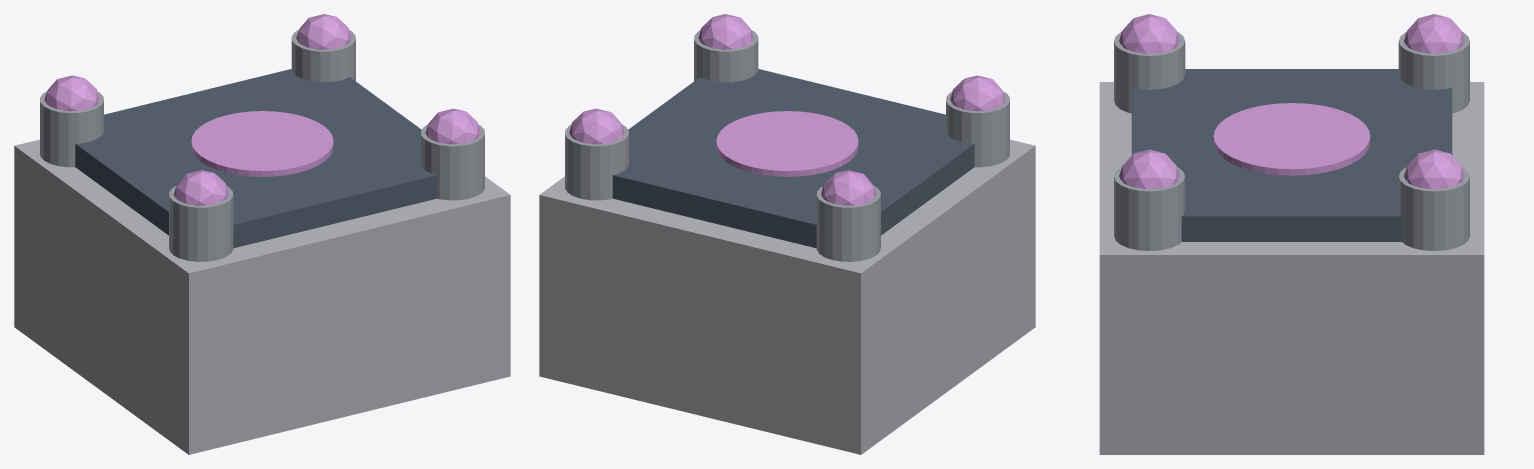
Rendered from propulsor-recarga.glb.
3 renders of one model, left to right at view 1: azimuth 30°, elevation 25°; view 2: azimuth 150°, elevation 25°; view 3: azimuth 270°, elevation 25°, orthographic. The views are drawn at different scales.
Parts seen in each view (by area): view 1: part000, part001, part002, part005, part009, part003, part007, part006, part008, part010, part004; view 2: part000, part001, part002, part003, part007, part005, part009, part004, part010, part008, part006; view 3: part000, part001, part002, part007, part009, part003, part005, part004, part006, part008, part010.
Part boxes in pixels (x1=…): part000: x1=14, y1=139, x2=510, y2=454; part001: x1=75, y1=69, x2=437, y2=248; part002: x1=191, y1=111, x2=333, y2=176; part005: x1=169, y1=185, x2=233, y2=261; part009: x1=421, y1=124, x2=484, y2=200; part003: x1=40, y1=91, x2=103, y2=167; part007: x1=291, y1=30, x2=355, y2=82; part006: x1=173, y1=170, x2=228, y2=205; part008: x1=296, y1=14, x2=351, y2=49; part010: x1=425, y1=108, x2=480, y2=144; part004: x1=44, y1=75, x2=99, y2=111; part000: x1=539, y1=139, x2=1035, y2=454; part001: x1=612, y1=69, x2=974, y2=248; part002: x1=716, y1=111, x2=858, y2=176; part003: x1=816, y1=185, x2=880, y2=261; part007: x1=565, y1=124, x2=628, y2=200; part005: x1=946, y1=91, x2=1009, y2=167; part009: x1=694, y1=30, x2=758, y2=82; part004: x1=821, y1=170, x2=876, y2=205; part010: x1=698, y1=14, x2=753, y2=49; part008: x1=569, y1=108, x2=624, y2=144; part006: x1=950, y1=75, x2=1005, y2=111; part000: x1=1099, y1=82, x2=1484, y2=454; part001: x1=1131, y1=69, x2=1452, y2=241; part002: x1=1213, y1=103, x2=1370, y2=175; part007: x1=1398, y1=167, x2=1469, y2=250; part009: x1=1114, y1=167, x2=1185, y2=250; part003: x1=1398, y1=31, x2=1469, y2=113; part005: x1=1114, y1=31, x2=1185, y2=113; part004: x1=1404, y1=14, x2=1464, y2=53; part006: x1=1119, y1=14, x2=1179, y2=53; part008: x1=1404, y1=149, x2=1464, y2=188; part010: x1=1119, y1=149, x2=1179, y2=188.
Size of the model in its own units: 1.28 by 0.88 by 1.28.
